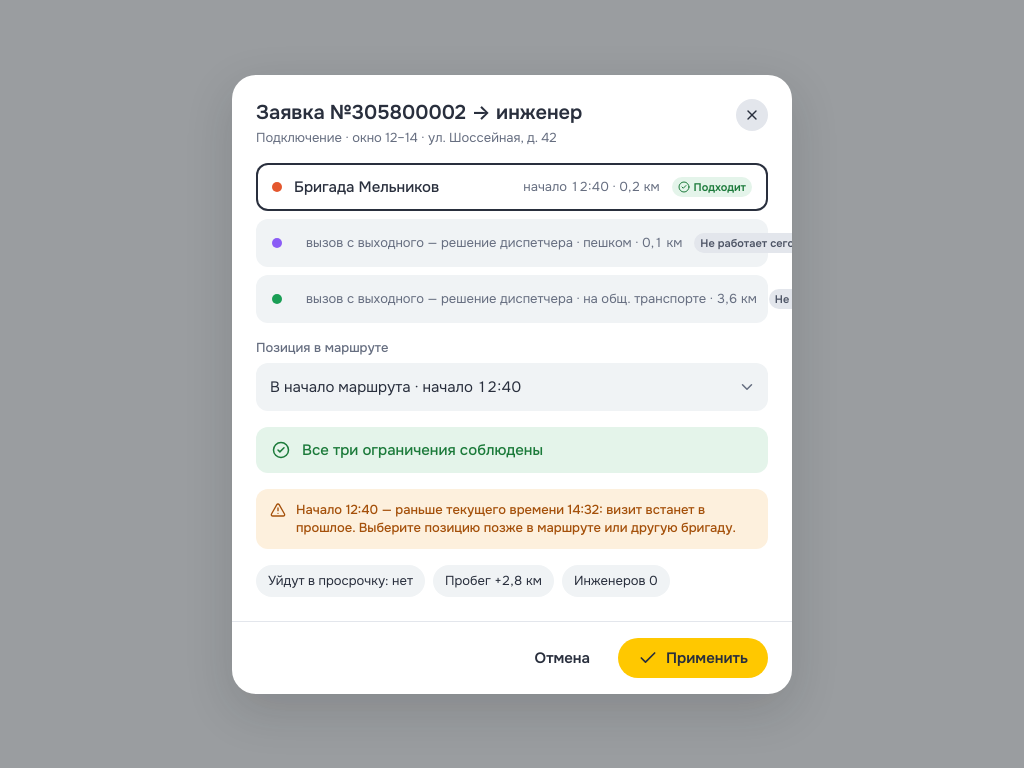
Test: DS-08 «Ручное переназначение» › «Позиция в маршруте» — повторная проверка с position; метка по новому ответу
The image size is (1024, 768).
Expected: the text "Все три ограничения соблюдены" is shown, [256,426,768,472]
Select "После №305800004" in the dropdown labelled "Позиция в маршруте" at {"x": 513, "y": 386}, box [270,362,756,410]
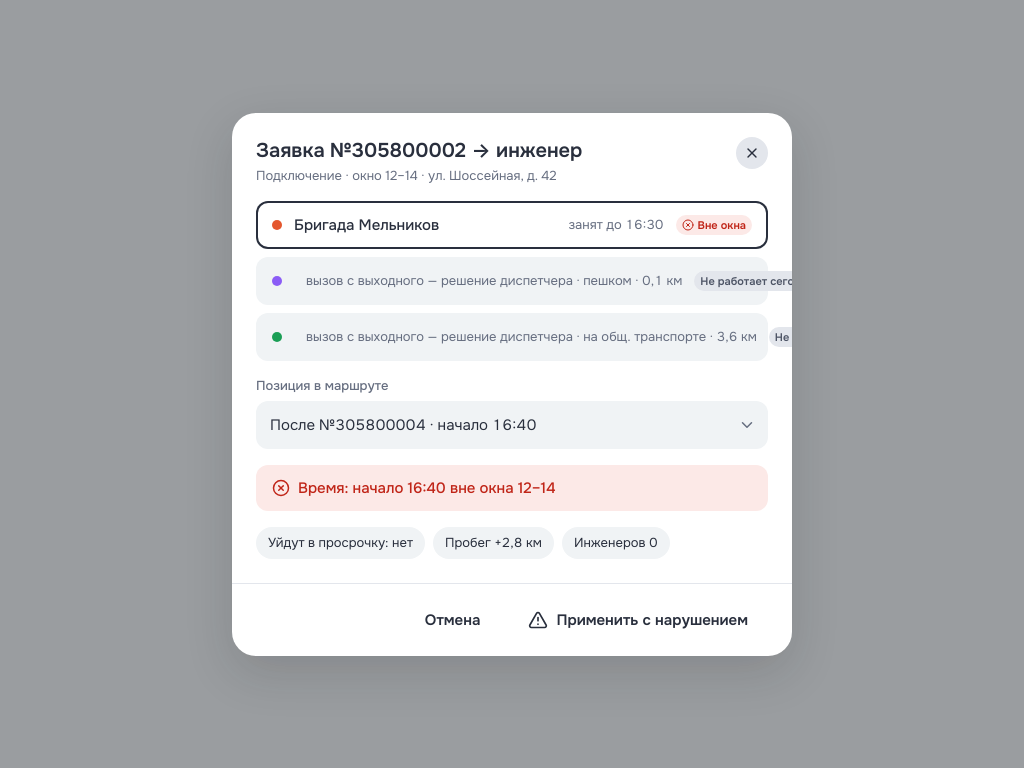
Result: the text "Время: начало 16:40 вне окна 12–14" is shown at [272,478,556,498]
Result: the button "Бригада Мельников занят до 16:30 Вне окна" is shown at [256,200,768,248]
